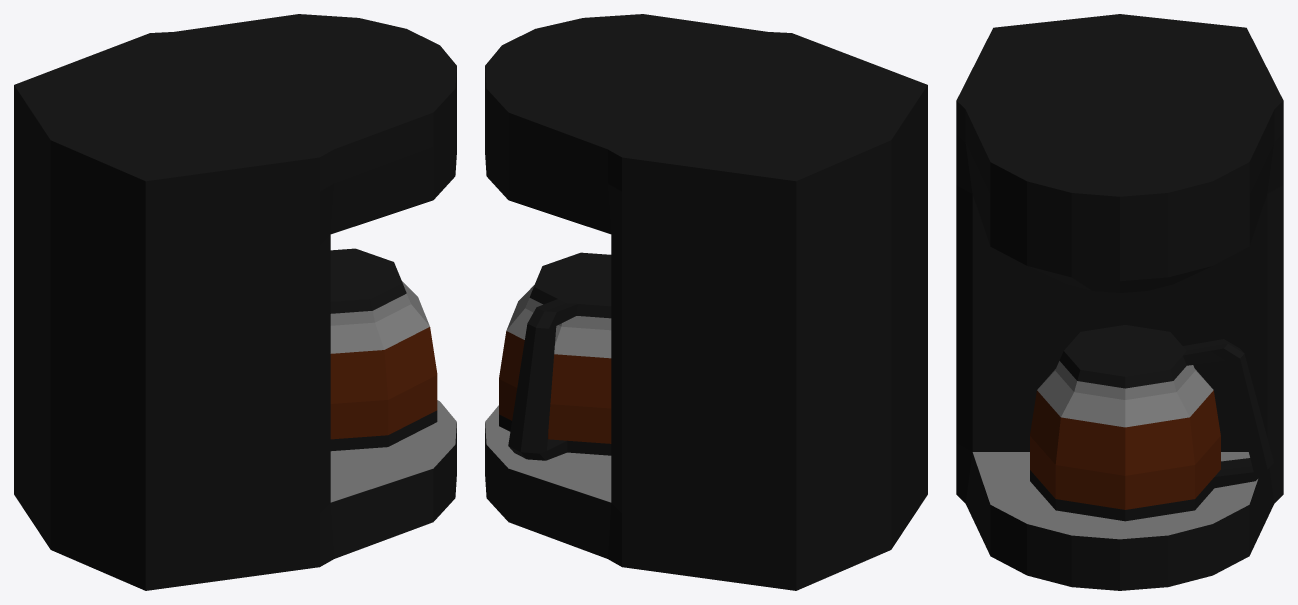
The model's file is Props_ControlRoom_CoffeMaker.fbx.
3 views of the same model, side by side, from view 1: azimuth 30°, elevation 25°; view 2: azimuth 150°, elevation 25°; view 3: azimuth 270°, elevation 25° (orthographic). The views are drawn at different scales.
Parts seen in each view (by area): view 1: Cube.004; view 2: Cube.004; view 3: Cube.004.
Boxes of the visible parts, x1,y1,x2,y2 form: Cube.004: (14, 14, 456, 590); Cube.004: (485, 14, 927, 590); Cube.004: (956, 14, 1283, 590).
Bounding box in the file's own units: 190 × 191 × 144.
